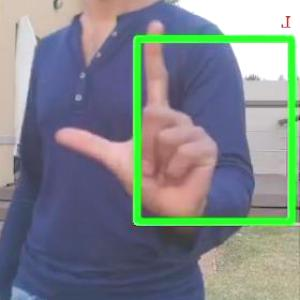land_hand: (55, 9, 247, 235)
